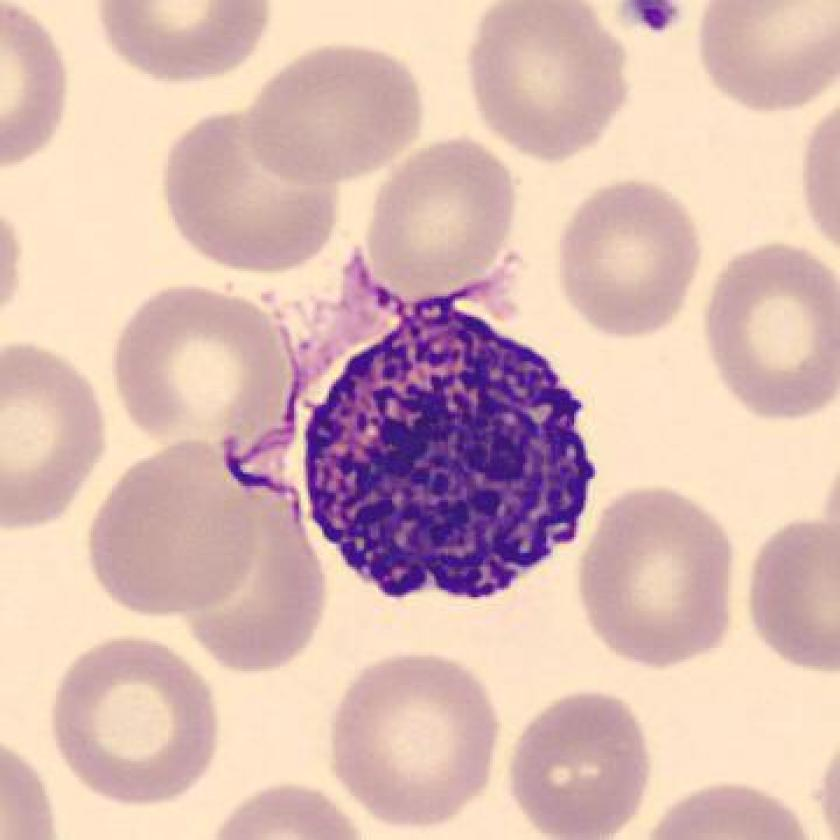basophil: (295, 302, 601, 610)
